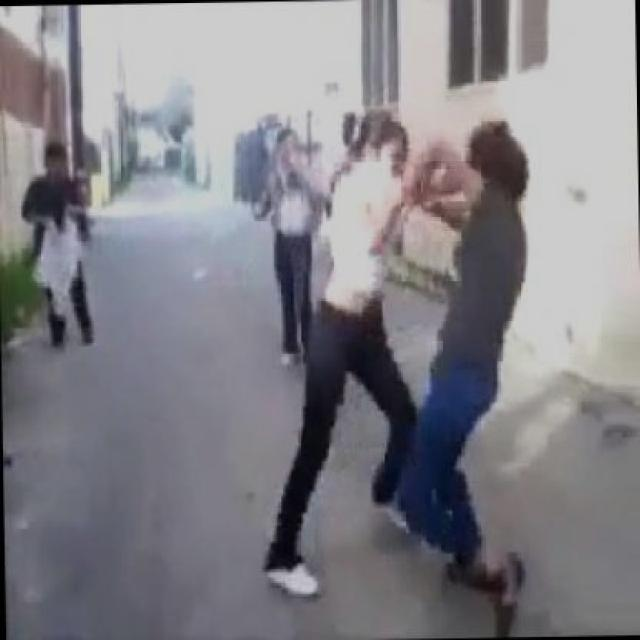fight: (260, 95, 532, 616)
non-fight: (251, 112, 335, 374), (20, 144, 99, 349)
